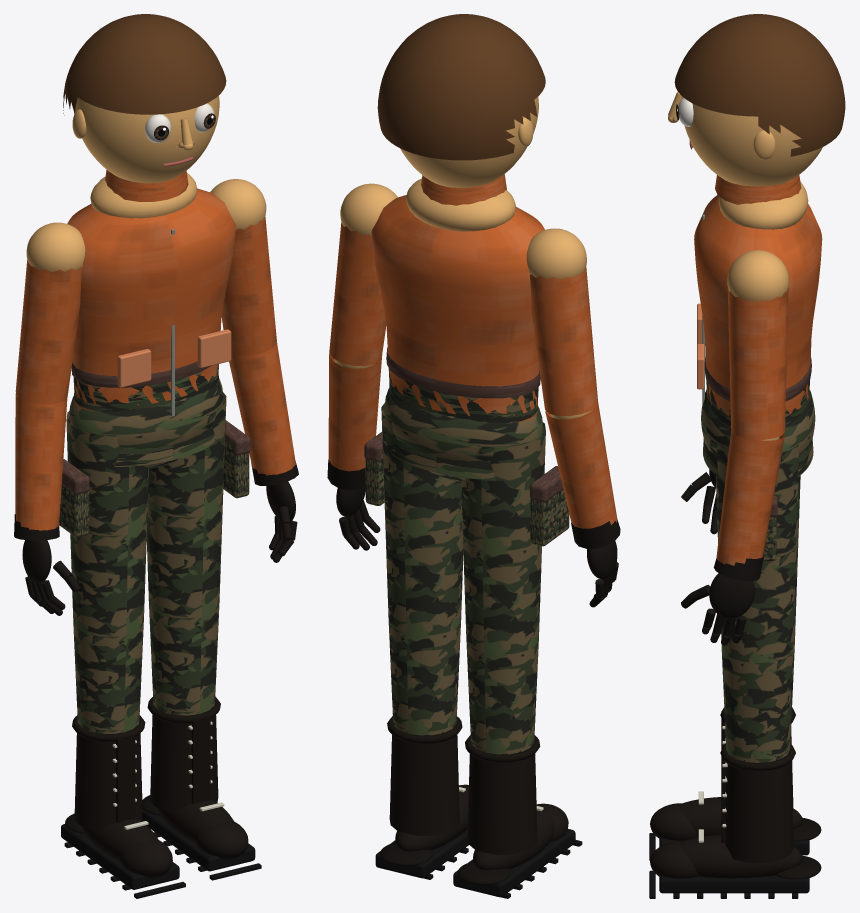
File: 01-gants-en-cuir.glb
The picture shows the model from 3 angles, left to right: view 1: azimuth 30°, elevation 25°; view 2: azimuth 150°, elevation 25°; view 3: azimuth 270°, elevation 25°; orthographic projection. The views are drawn at different scales.
Size of the model in its own units: 0.6268 by 1.77 by 0.3715.
Materials: 23 (4 with a texture image).
